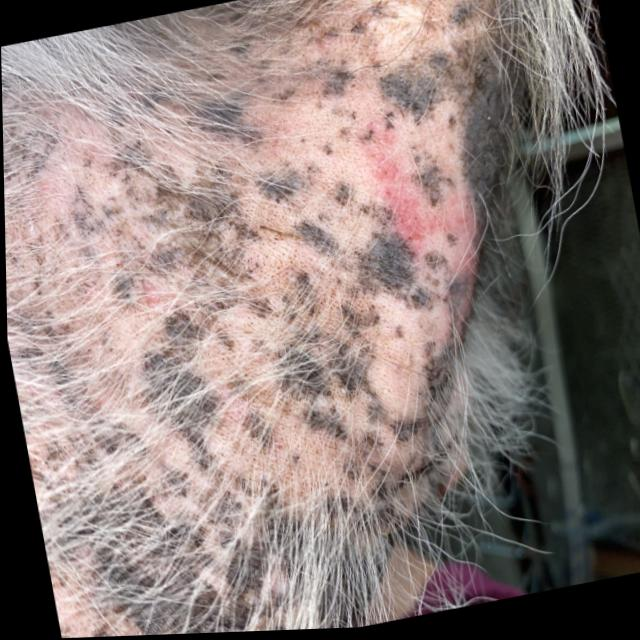demodicosis: (202, 0, 479, 305), (52, 365, 289, 638), (265, 272, 491, 505), (3, 126, 211, 356)
